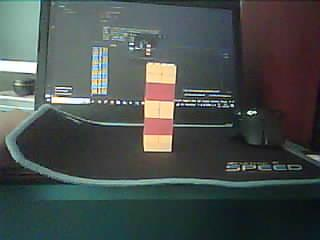lego: (143, 62, 176, 152)
